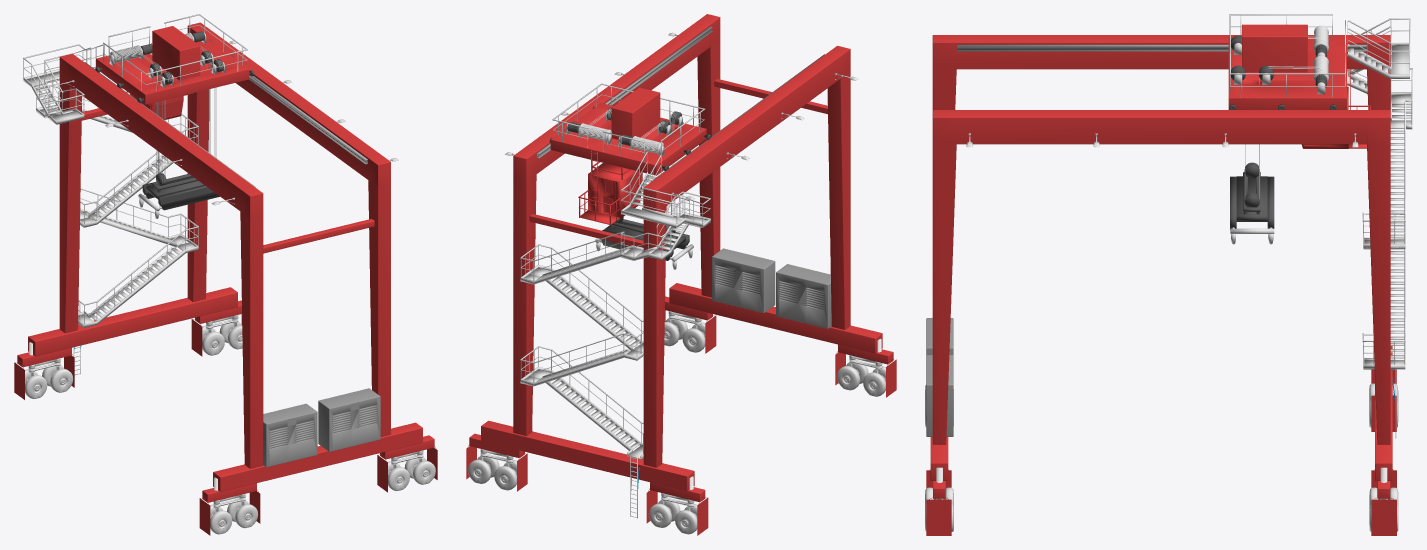
The model's file is diaochehong.fbx.
3 renders of one model, left to right at view 1: azimuth 30°, elevation 25°; view 2: azimuth 150°, elevation 25°; view 3: azimuth 270°, elevation 25°, orthographic. The views are drawn at different scales.
Parts seen in each view (by area): view 1: Obj3d66_504749_2_437, Obj3d66_504749_3_264, Obj3d66_504749_6_773, Obj3d66_504749_49_496, Obj3d66_504749_4_642, Obj3d66_504749_64_798, Obj3d66_504749_65_892, Obj3d66_504749_14_725, Obj3d66_504749_55_555, Obj3d66_504749_9_861, Obj3d66_504749_16_876, Obj3d66_504749_8_576 (+13 smaller); view 2: Obj3d66_504749_2_437, Obj3d66_504749_3_264, Obj3d66_504749_6_773, Obj3d66_504749_49_496, Obj3d66_504749_4_642, Obj3d66_504749_64_798, Obj3d66_504749_65_892, Obj3d66_504749_37_267, Obj3d66_504749_14_725, Obj3d66_504749_16_876, Obj3d66_504749_9_861, Obj3d66_504749_55_555 (+15 smaller); view 3: Obj3d66_504749_3_264, Obj3d66_504749_2_437, Obj3d66_504749_49_496, Obj3d66_504749_55_555, Obj3d66_504749_11_519, Obj3d66_504749_50_929, Obj3d66_504749_17_745, Obj3d66_504749_15_424, Obj3d66_504749_64_798, Obj3d66_504749_22_212, Obj3d66_504749_59_19, Obj3d66_504749_23_934 (+3 smaller).
Boxes of the visible parts, left/top/right/bottom form: Obj3d66_504749_2_437: left=59, top=53, right=263, bottom=468; Obj3d66_504749_3_264: left=187, top=22, right=390, bottom=436; Obj3d66_504749_6_773: left=28, top=287, right=237, bottom=356; Obj3d66_504749_49_496: left=96, top=38, right=249, bottom=104; Obj3d66_504749_4_642: left=213, top=422, right=422, bottom=491; Obj3d66_504749_64_798: left=318, top=388, right=380, bottom=451; Obj3d66_504749_65_892: left=263, top=403, right=317, bottom=467; Obj3d66_504749_14_725: left=78, top=220, right=198, bottom=327; Obj3d66_504749_55_555: left=152, top=26, right=200, bottom=80; Obj3d66_504749_9_861: left=17, top=300, right=434, bottom=502; Obj3d66_504749_16_876: left=80, top=119, right=198, bottom=227; Obj3d66_504749_8_576: left=25, top=342, right=73, bottom=398; Obj3d66_504749_2_437: left=643, top=45, right=850, bottom=467; Obj3d66_504749_3_264: left=513, top=14, right=720, bottom=435; Obj3d66_504749_6_773: left=481, top=420, right=694, bottom=491; Obj3d66_504749_49_496: left=550, top=103, right=706, bottom=175; Obj3d66_504749_4_642: left=669, top=283, right=882, bottom=353; Obj3d66_504749_64_798: left=712, top=248, right=775, bottom=313; Obj3d66_504749_65_892: left=776, top=264, right=831, bottom=328; Obj3d66_504749_37_267: left=578, top=150, right=642, bottom=225; Obj3d66_504749_14_725: left=529, top=346, right=643, bottom=459; Obj3d66_504749_16_876: left=529, top=244, right=643, bottom=351; Obj3d66_504749_9_861: left=469, top=296, right=893, bottom=501; Obj3d66_504749_55_555: left=611, top=87, right=660, bottom=139; Obj3d66_504749_3_264: left=932, top=110, right=1390, bottom=444; Obj3d66_504749_2_437: left=932, top=35, right=1390, bottom=109; Obj3d66_504749_49_496: left=1228, top=37, right=1346, bottom=109; Obj3d66_504749_55_555: left=1242, top=24, right=1307, bottom=72; Obj3d66_504749_11_519: left=926, top=469, right=1396, bottom=535; Obj3d66_504749_50_929: left=957, top=44, right=1366, bottom=51; Obj3d66_504749_17_745: left=1390, top=101, right=1411, bottom=248; Obj3d66_504749_15_424: left=1390, top=213, right=1405, bottom=369; Obj3d66_504749_64_798: left=926, top=355, right=953, bottom=436; Obj3d66_504749_22_212: left=1348, top=18, right=1410, bottom=78; Obj3d66_504749_59_19: left=1236, top=176, right=1267, bottom=221; Obj3d66_504749_23_934: left=1347, top=20, right=1390, bottom=78.
Bounding box in the file's own units: 4.57 × 7.02 × 7.08.
